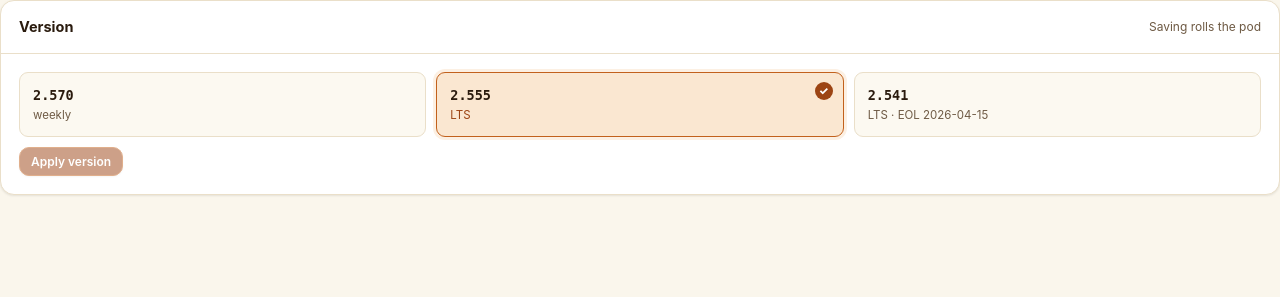
Test: VersionCard › warns when the target plugin set is not materialized
Click the text "2.541".
click(888, 95)  # box [868,87,908,103]
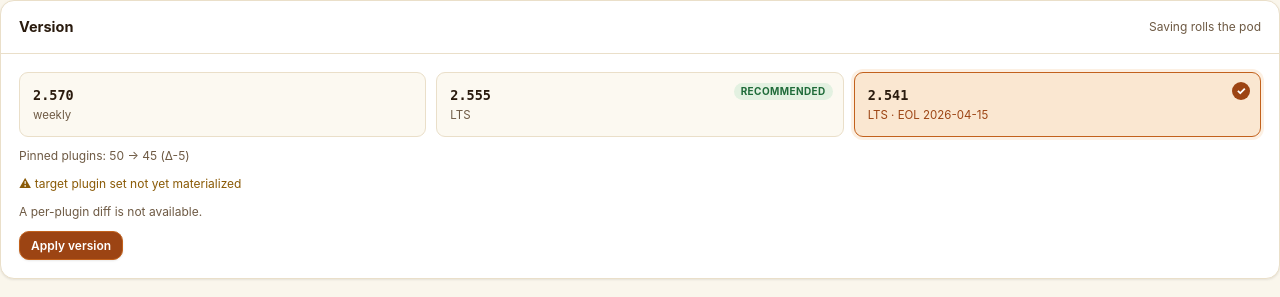
expect the text "⚠ target plugin set not yet materialized" is shown: met, box [19,176,241,191]
